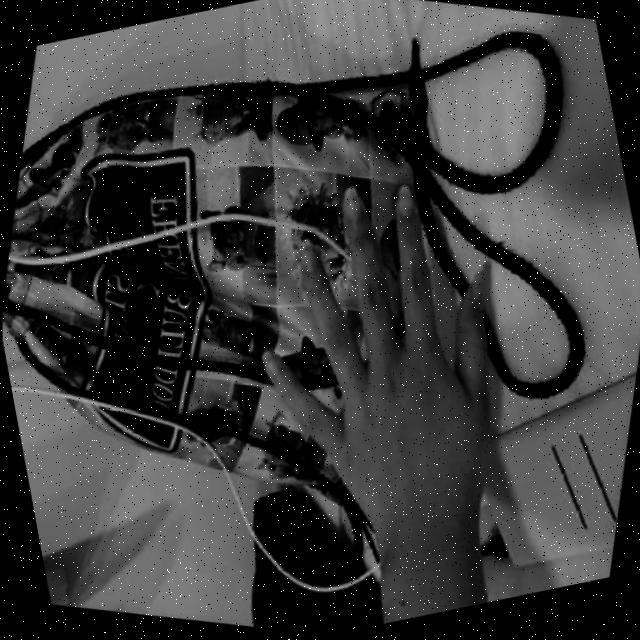no-gloves: (210, 154, 583, 566)
